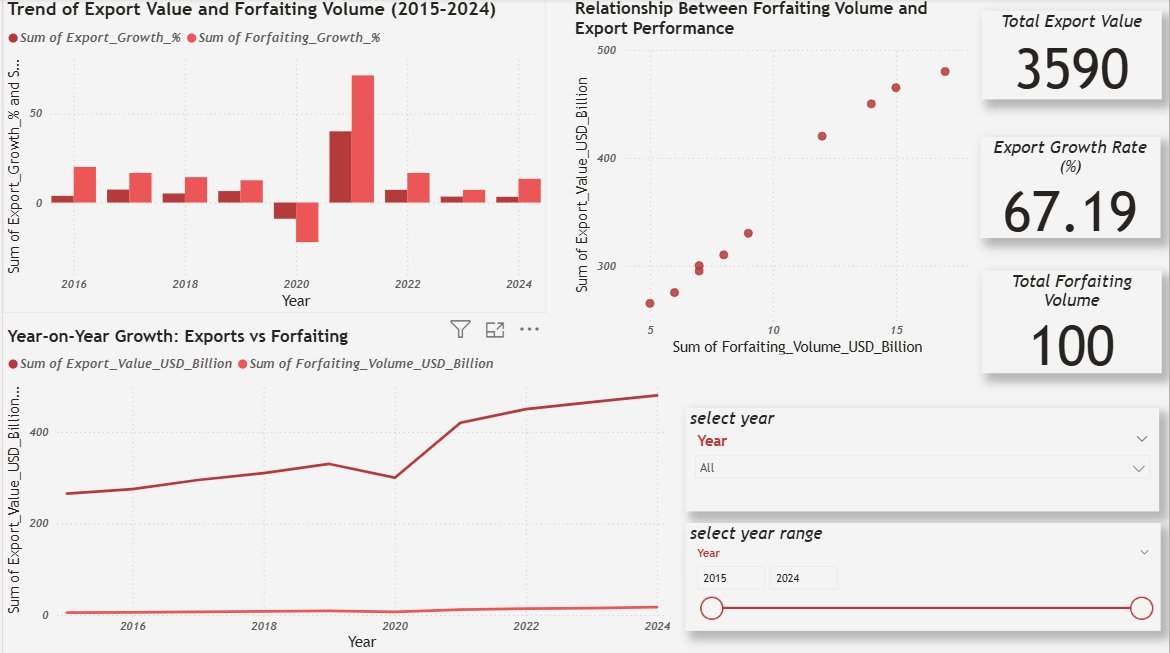

The dashboard page shown, as its layout file describes it:
{"tool":"powerbi","page":{"name":"Page 2","canvas":[1280,720],"ordinal":1},"visuals":[{"type":"lineChart","title":"Year-on-Year Growth: Exports vs Forfaiting","fields":{"Category":["Sheet1.Year"],"Y":["Sum(Sheet1.Export_Value_USD_Billion)","Sum(Sheet1.Forfaiting_Volume_USD_Billion)"]},"box":[0,359.5,738.3,360.9],"z":0},{"type":"clusteredColumnChart","title":"Trend of Export Value and Forfaiting Volume (2015–2024)","fields":{"Category":["Sheet1.Year"],"Y":["Sum(Sheet1.Export_Growth_%)","Sum(Sheet1.Forfaiting_Growth_%)"]},"box":[0,0,595.5,345.8],"z":1000},{"type":"scatterChart","title":"Relationship Between Forfaiting Volume and Export Performance","fields":{"X":["Sum(Sheet1.Forfaiting_Volume_USD_Billion)"],"Y":["Sum(Sheet1.Export_Value_USD_Billion)"],"Category":["Sheet1.Year"]},"box":[623,0,451.5,396.6],"z":2000},{"type":"slicer","title":"select year","fields":{"Values":["Sheet1.Year"]},"box":[749.2,450.1,520.1,113.9],"z":3000},{"type":"slicer","title":"select year range","fields":{"Values":["Sheet1.Year"]},"box":[749.2,576.3,521.4,118],"z":4000},{"type":"card","title":"Total Export Value","fields":{"Values":["Sum(Sheet1.Export_Value_USD_Billion)"]},"box":[1074.4,13.7,197.6,97.4],"z":5000},{"type":"card","title":"Total Forfaiting Volume","fields":{"Values":["Sum(Sheet1.Forfaiting_Volume_USD_Billion)"]},"box":[1074.4,299.1,197.6,112.5],"z":6000},{"type":"card","title":"Export Growth Rate (%)","fields":{"Values":["Sum(Sheet1.Export_Growth_%)"]},"box":[1073.1,152.3,197.6,111.1],"z":7000}]}

Visuals, with their boxes in screenshot pixels (x1, y1, x2, y2), scaled from the page's 1280x720 canvas onto the 1170x653 screenshot:
"Year-on-Year Growth: Exports vs Forfaiting" lineChart: bbox=(0, 326, 675, 652)
"Trend of Export Value and Forfaiting Volume (2015–2024)" clusteredColumnChart: bbox=(0, 0, 544, 314)
"Relationship Between Forfaiting Volume and Export Performance" scatterChart: bbox=(569, 0, 982, 360)
"select year" slicer: bbox=(685, 408, 1160, 512)
"select year range" slicer: bbox=(685, 523, 1161, 630)
"Total Export Value" card: bbox=(982, 12, 1163, 101)
"Total Forfaiting Volume" card: bbox=(982, 271, 1163, 373)
"Export Growth Rate (%)" card: bbox=(981, 138, 1161, 239)
